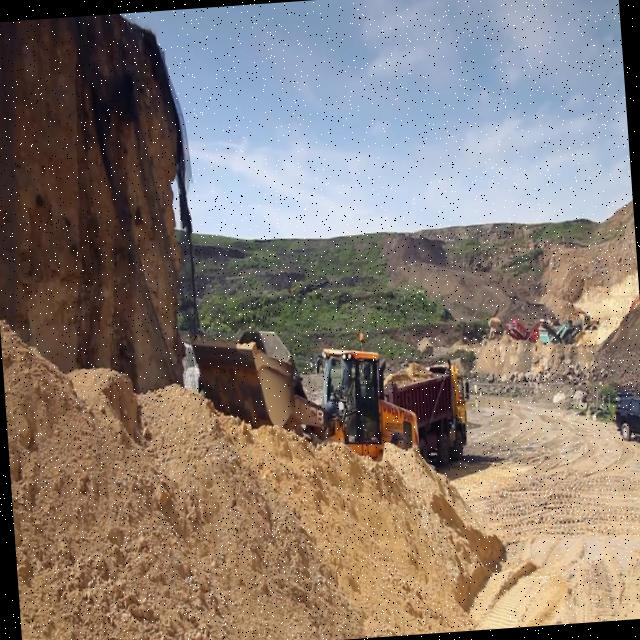Dump Truck: (386, 345, 471, 478)
Loader: (186, 315, 419, 475)
